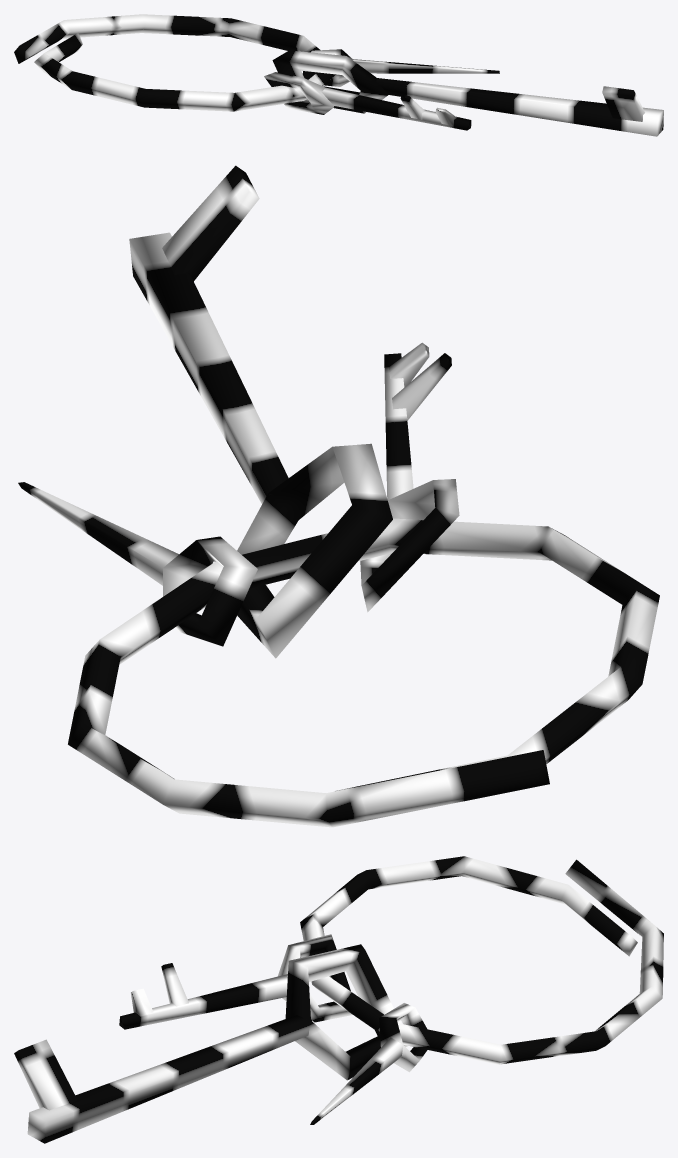
The model's file is initqi32.dae.
3 renders of one model, top to bottom at view 1: azimuth 30°, elevation 25°; view 2: azimuth 150°, elevation 25°; view 3: azimuth 270°, elevation 25°, orthographic. The views are drawn at different scales.
Parts seen in each view (by area): view 1: item; view 2: item; view 3: item.
Part boxes in pixels (bbox=[...]): item: bbox=[14, 14, 663, 136]; item: bbox=[18, 165, 659, 827]; item: bbox=[14, 856, 663, 1143].
Bounding box in the file's own units: 1.22 × 1.32 × 0.2452.
Materials: 1 (1 with a texture image).
